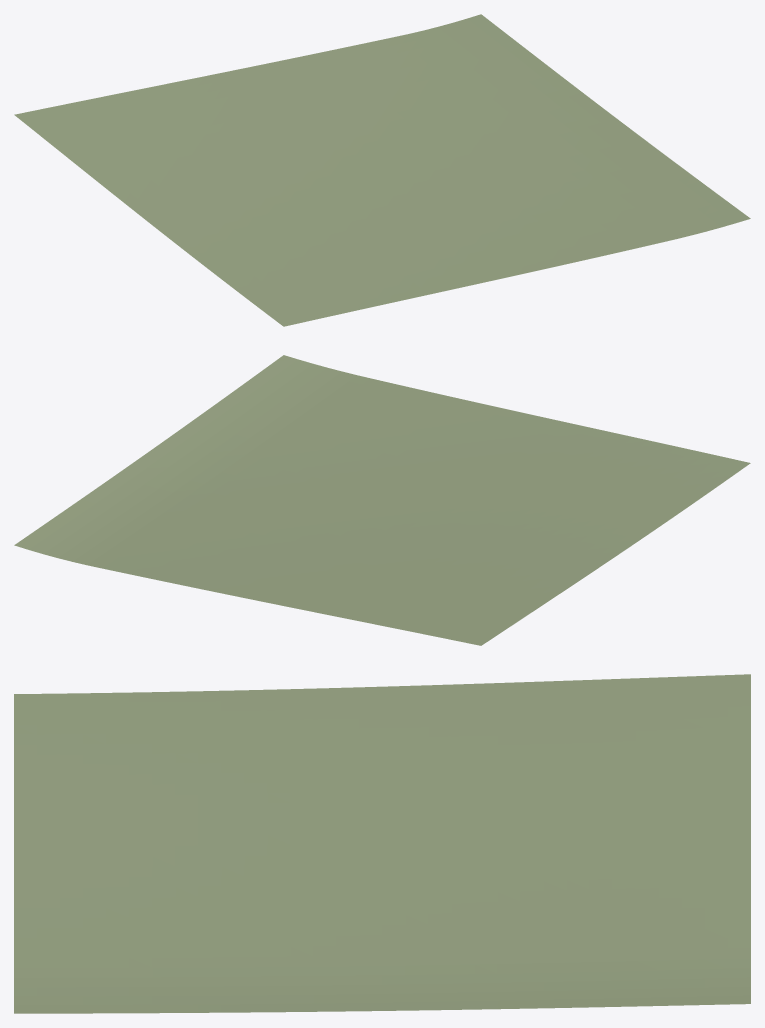
The model's file is expanse-23-18.glb.
The picture shows the model from 3 angles, top to bottom: view 1: azimuth 30°, elevation 25°; view 2: azimuth 150°, elevation 25°; view 3: azimuth 270°, elevation 25°; orthographic projection. The views are drawn at different scales.
Parts seen in each view (by area): view 1: expanse-23-18; view 2: expanse-23-18; view 3: expanse-23-18.
Part boxes in pixels (x1,y1,x2,y2): expanse-23-18: (14, 14, 750, 326); expanse-23-18: (14, 355, 750, 645); expanse-23-18: (14, 674, 750, 1013).
Bounding box in the file's own units: 256 × 11.92 × 256.
